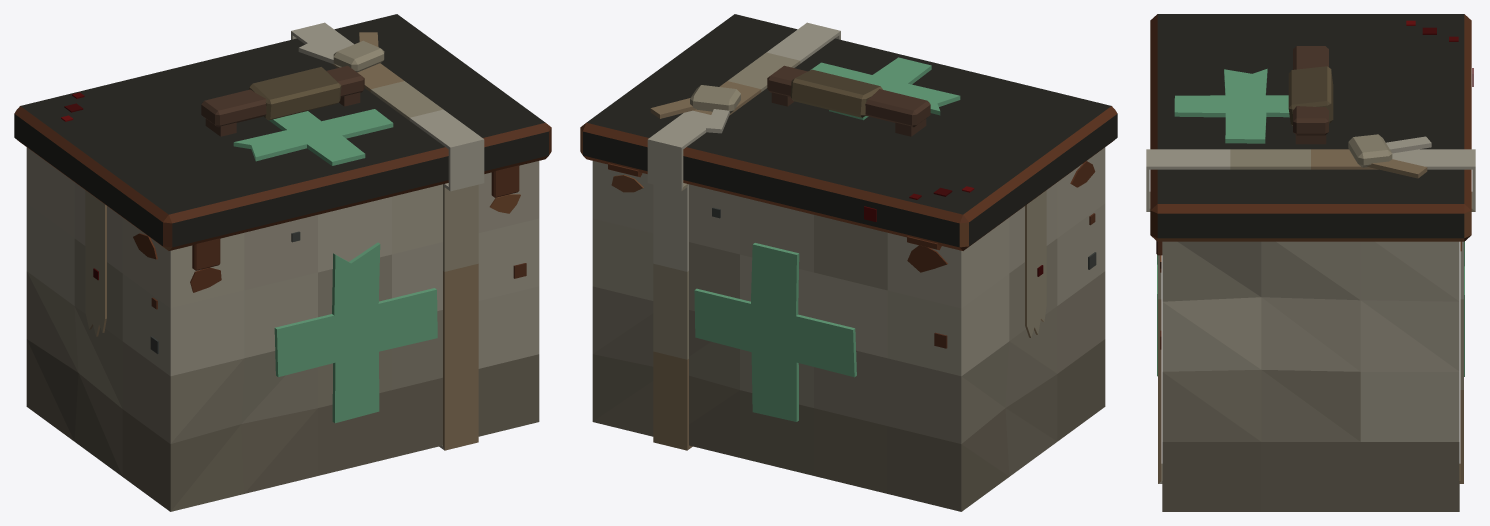
File: 1st_aid_box.glb
3 renders of one model, left to right at view 1: azimuth 30°, elevation 25°; view 2: azimuth 150°, elevation 25°; view 3: azimuth 270°, elevation 25°, orthographic. The views are drawn at different scales.
Visible parts, largest first — view 1: FrissonPickup_Health_Full_Body, FrissonPickup_Health_Full_Glint; view 2: FrissonPickup_Health_Full_Body, FrissonPickup_Health_Full_Glint; view 3: FrissonPickup_Health_Full_Body, FrissonPickup_Health_Full_Glint.
Boxes of the visible parts, x1,y1,x2,y2 form: FrissonPickup_Health_Full_Body: (14, 14, 551, 511); FrissonPickup_Health_Full_Glint: (233, 109, 437, 423); FrissonPickup_Health_Full_Body: (580, 14, 1117, 511); FrissonPickup_Health_Full_Glint: (694, 57, 960, 421); FrissonPickup_Health_Full_Body: (1146, 14, 1475, 511); FrissonPickup_Health_Full_Glint: (1157, 68, 1464, 376).
Bounding box in the file's own units: 0.39 × 0.3202 × 0.277.
